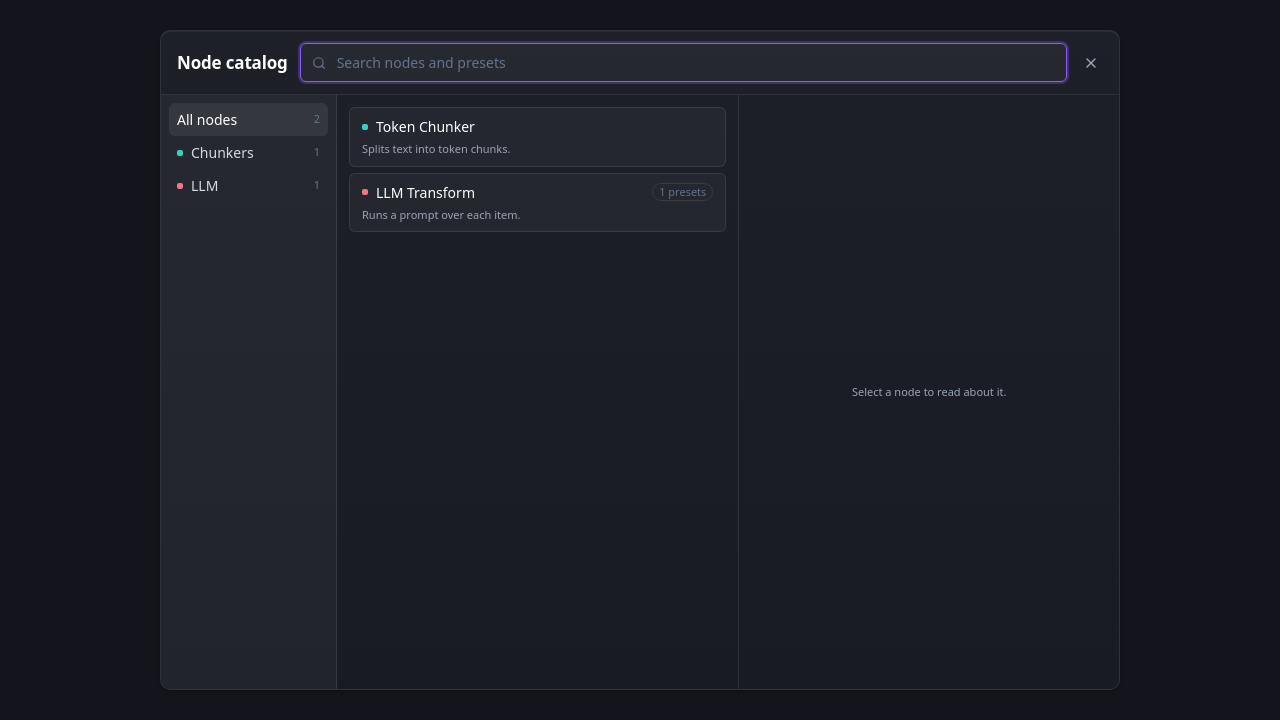
Scenario: NodeCatalogOverlay › surfaces presets as searchable peer rows
Type "summarize" into the search field labelled "Search nodes and presets" at [683, 62], box left=300, top=43, right=1067, bottom=82
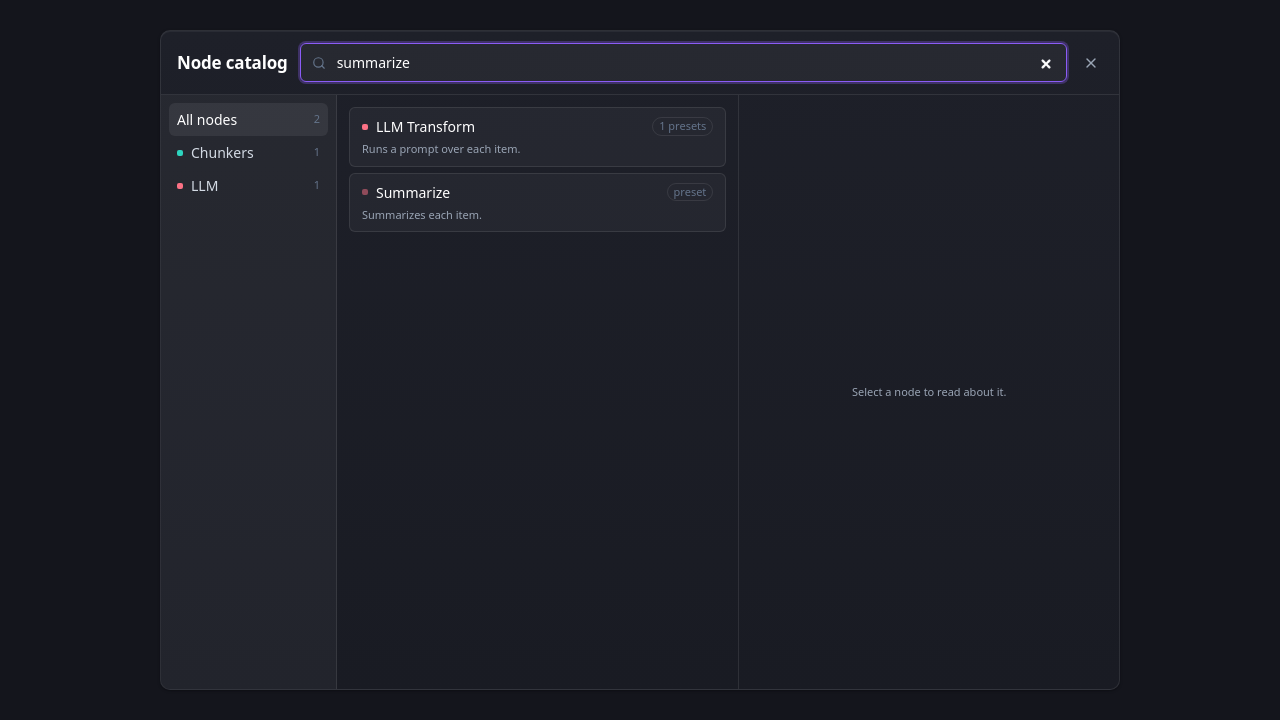
Click the button "Summarize preset Summarizes each item." at [413, 192], box left=349, top=172, right=726, bottom=232
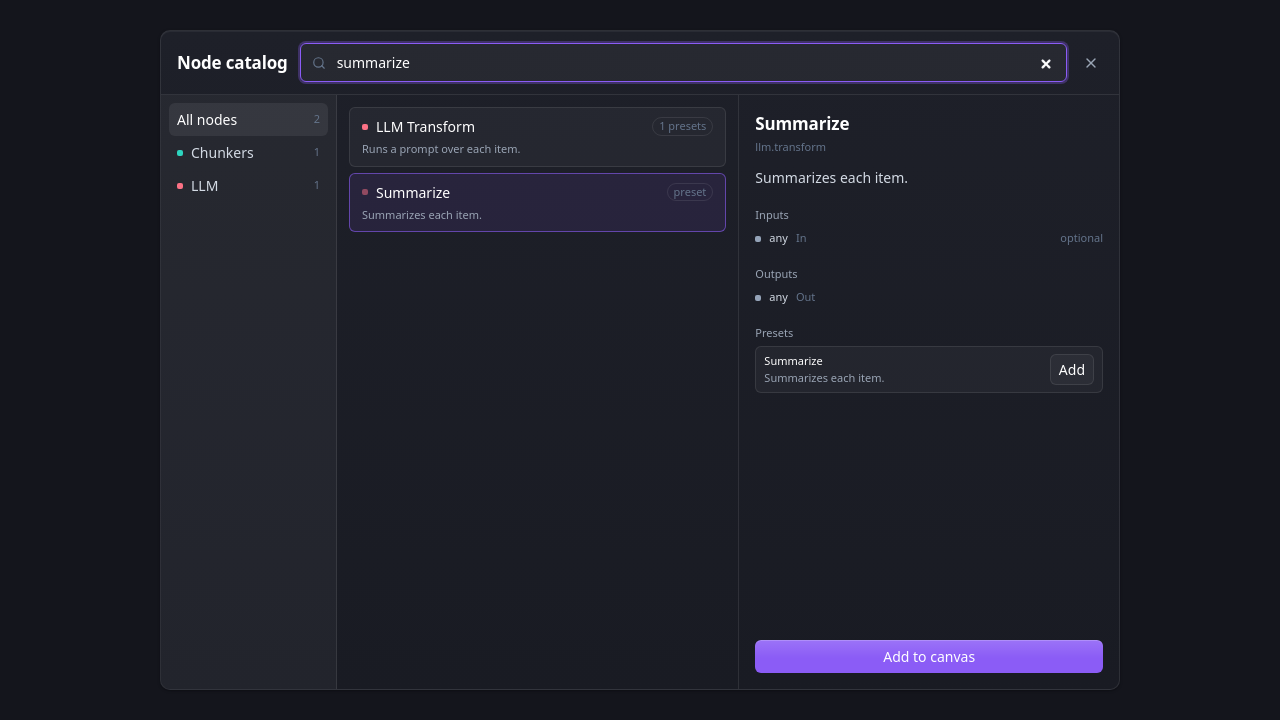
Now the text "llm.transform" is shown, box left=755, top=138, right=826, bottom=154
Now the button "Add to canvas" is shown, box left=755, top=640, right=1103, bottom=673
